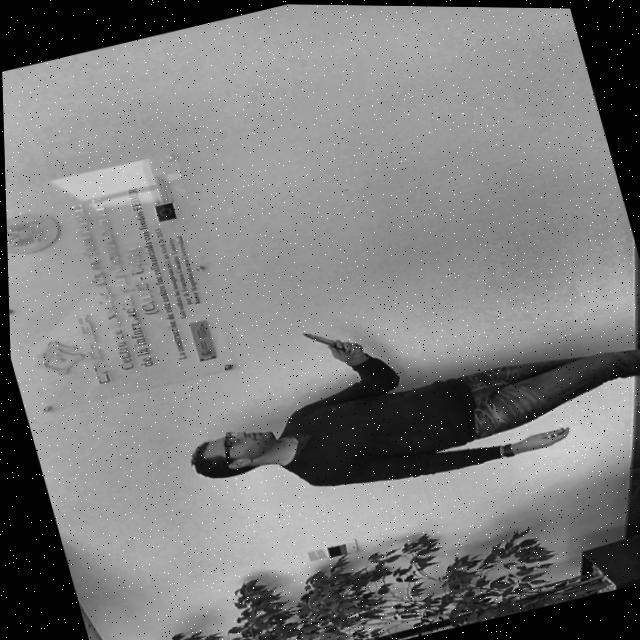knife: (297, 316, 351, 356)
